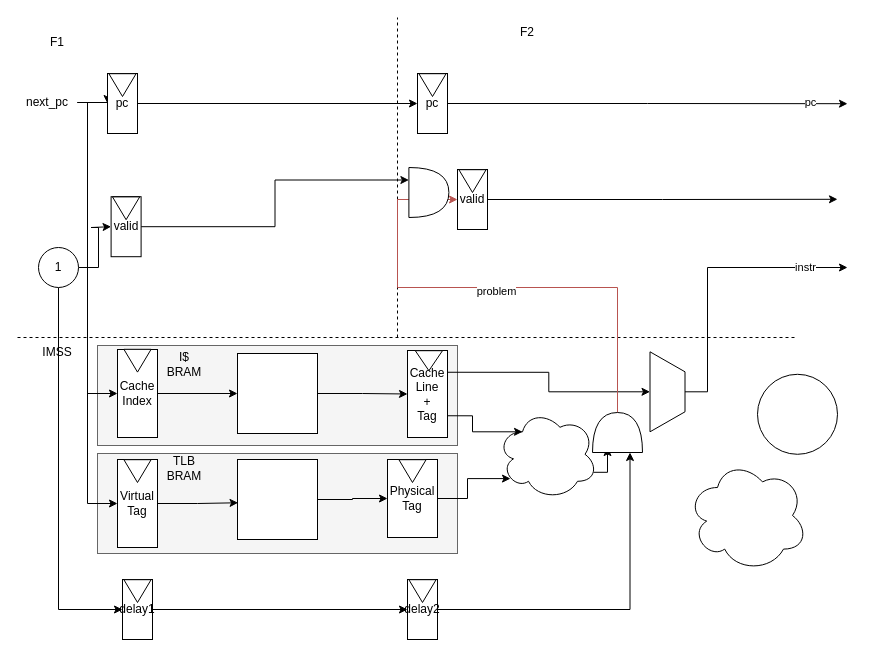
Some shapes in this 873 by 657 pixel diagram are drawn without their labels. The centre of each missing label's shape, as x and y in pixels:
"FSM" belongs at [747,515].
"I$ BRAM Cells" belongs at [277,393].
"Tag Comparison" belongs at [547,453].
"TLB BRAM Cells" belongs at [277,499].
"Word Mux" belongs at [667,391].
